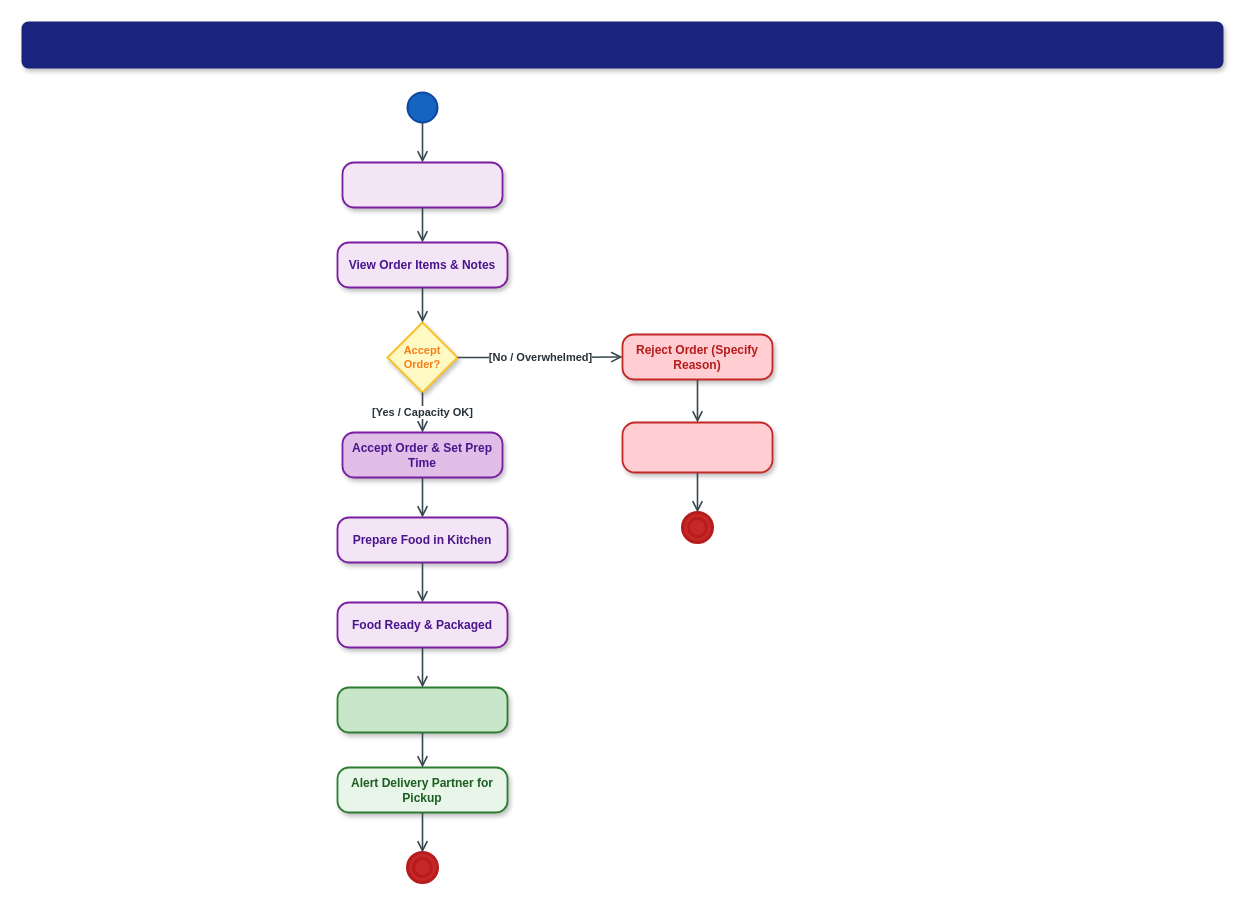
Image size: 1246x901. Some labels were removed from this diagram. Each missing label, with the centre of its shape:
Notify Customer & Trigger Refund: the point at 698,448
ONLINE FOOD ORDERING SYSTEM — RESTAURANT ORDER PROCESSING ACTIVITY DIAGRAM: the point at 623,46
Receive Incoming Order: the point at 423,186
Update Status: Ready for Pickup: the point at 423,711
